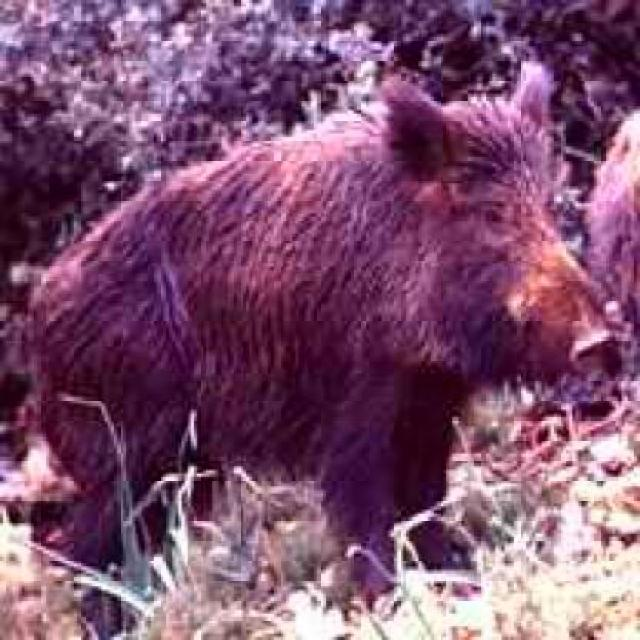Boar: (0, 51, 623, 640)
